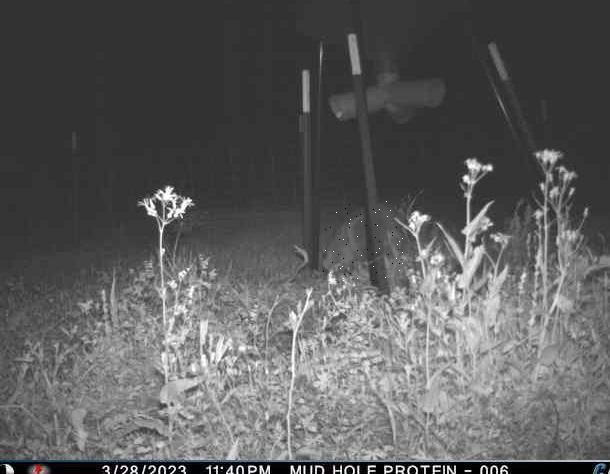Raccoon: (324, 201, 405, 282)
